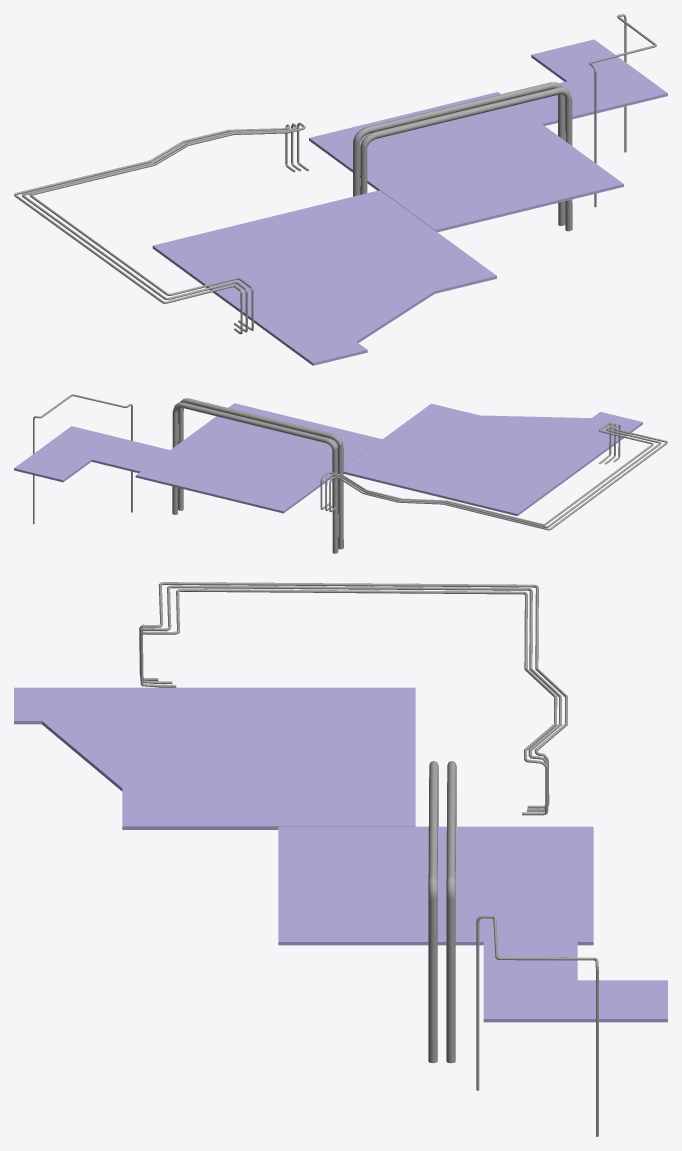
The model's file is New_Props_LVL2_Part1.fbx.
The picture shows the model from 3 angles, top to bottom: view 1: azimuth 30°, elevation 25°; view 2: azimuth 150°, elevation 25°; view 3: azimuth 270°, elevation 25°; orthographic projection. The views are drawn at different scales.
Parts seen in each view (by area): view 1: BLOCK_Room1_Floor3, BLOCK_Room2_Floor1, BLOCK_Room1_Floor1, All_Tubes, Tube_2, BLOCK_Highway1_Floor3, BLOCK_Highway2_Floor4, Tube_1; view 2: BLOCK_Room1_Floor3, BLOCK_Room2_Floor1, BLOCK_Room1_Floor1, Tube_2, All_Tubes, BLOCK_Highway1_Floor3, BLOCK_Highway2_Floor4, Tube_1; view 3: BLOCK_Room2_Floor1, BLOCK_Room1_Floor3, BLOCK_Room1_Floor1, All_Tubes, BLOCK_Highway1_Floor3, Tube_2, BLOCK_Highway2_Floor4, Tube_1.
Part boxes in pixels (<box>): BLOCK_Room1_Floor3: <box>207,190,496,342</box>; BLOCK_Room2_Floor1: <box>309,92,623,232</box>; BLOCK_Room1_Floor1: <box>152,232,367,365</box>; All_Tubes: <box>14,122,308,334</box>; Tube_2: <box>353,82,572,231</box>; BLOCK_Highway1_Floor3: <box>516,66,667,125</box>; BLOCK_Highway2_Floor4: <box>531,39,629,81</box>; Tube_1: <box>589,14,656,207</box>; BLOCK_Room1_Floor3: <box>343,403,591,505</box>; BLOCK_Room2_Floor1: <box>135,403,381,513</box>; BLOCK_Room1_Floor1: <box>474,411,642,516</box>; Tube_2: <box>172,398,343,553</box>; All_Tubes: <box>320,422,667,530</box>; BLOCK_Highway1_Floor3: <box>43,426,169,472</box>; BLOCK_Highway2_Floor4: <box>14,447,91,482</box>; Tube_1: <box>33,394,132,524</box>; BLOCK_Room2_Floor1: <box>278,826,593,945</box>; BLOCK_Room1_Floor3: <box>42,720,415,829</box>; BLOCK_Room1_Floor1: <box>14,687,415,724</box>; All_Tubes: <box>139,582,567,815</box>; BLOCK_Highway1_Floor3: <box>483,942,577,1022</box>; Tube_2: <box>428,761,456,1063</box>; BLOCK_Highway2_Floor4: <box>577,980,667,1022</box>; Tube_1: <box>476,915,598,1136</box>.
Bounding box in the file's own units: 608 × 133 × 432.
